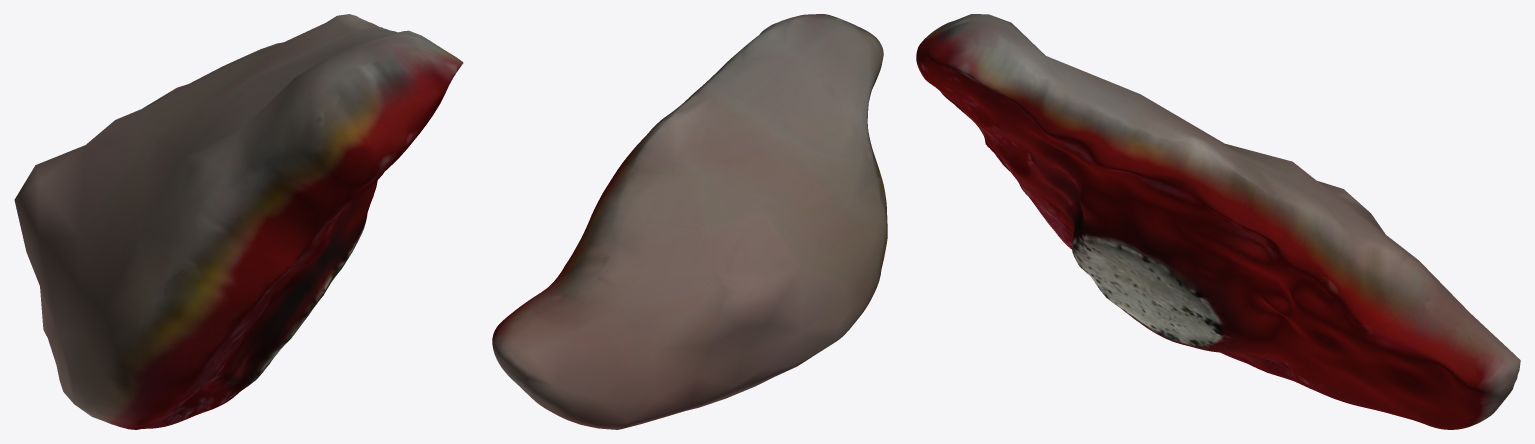
The picture shows the model from 3 angles, left to right: view 1: azimuth 30°, elevation 25°; view 2: azimuth 150°, elevation 25°; view 3: azimuth 270°, elevation 25°; orthographic projection. The views are drawn at different scales.
Bounding box in the file's own units: 0.1643 × 0.1866 × 0.2742.
1 material, 1 textured.
